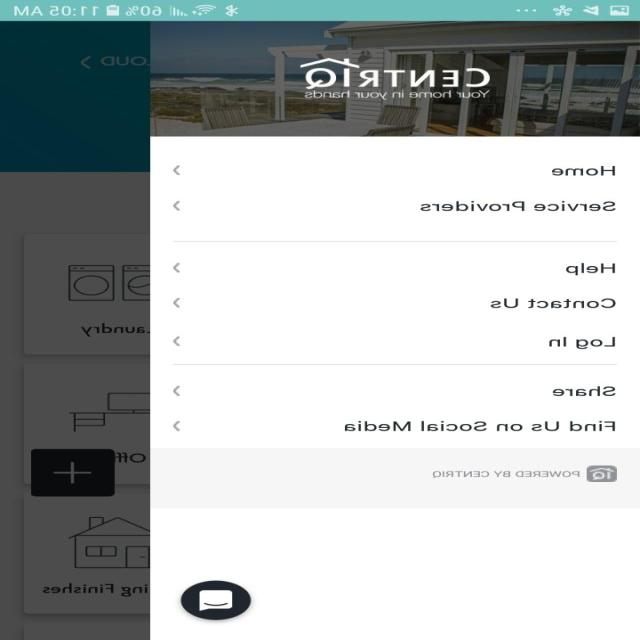Drawer: (150, 21, 640, 639)
Icon: (180, 580, 252, 620), (174, 420, 182, 431), (174, 262, 182, 272), (174, 200, 182, 210), (174, 298, 182, 308), (174, 336, 182, 346), (173, 385, 180, 396), (173, 165, 180, 175)
Image: (300, 57, 490, 100), (586, 465, 618, 482)
Text: (345, 420, 616, 431), (419, 201, 616, 211), (491, 298, 617, 308), (432, 470, 580, 478), (549, 337, 616, 349), (551, 165, 615, 176), (565, 262, 615, 276), (553, 386, 617, 396)
